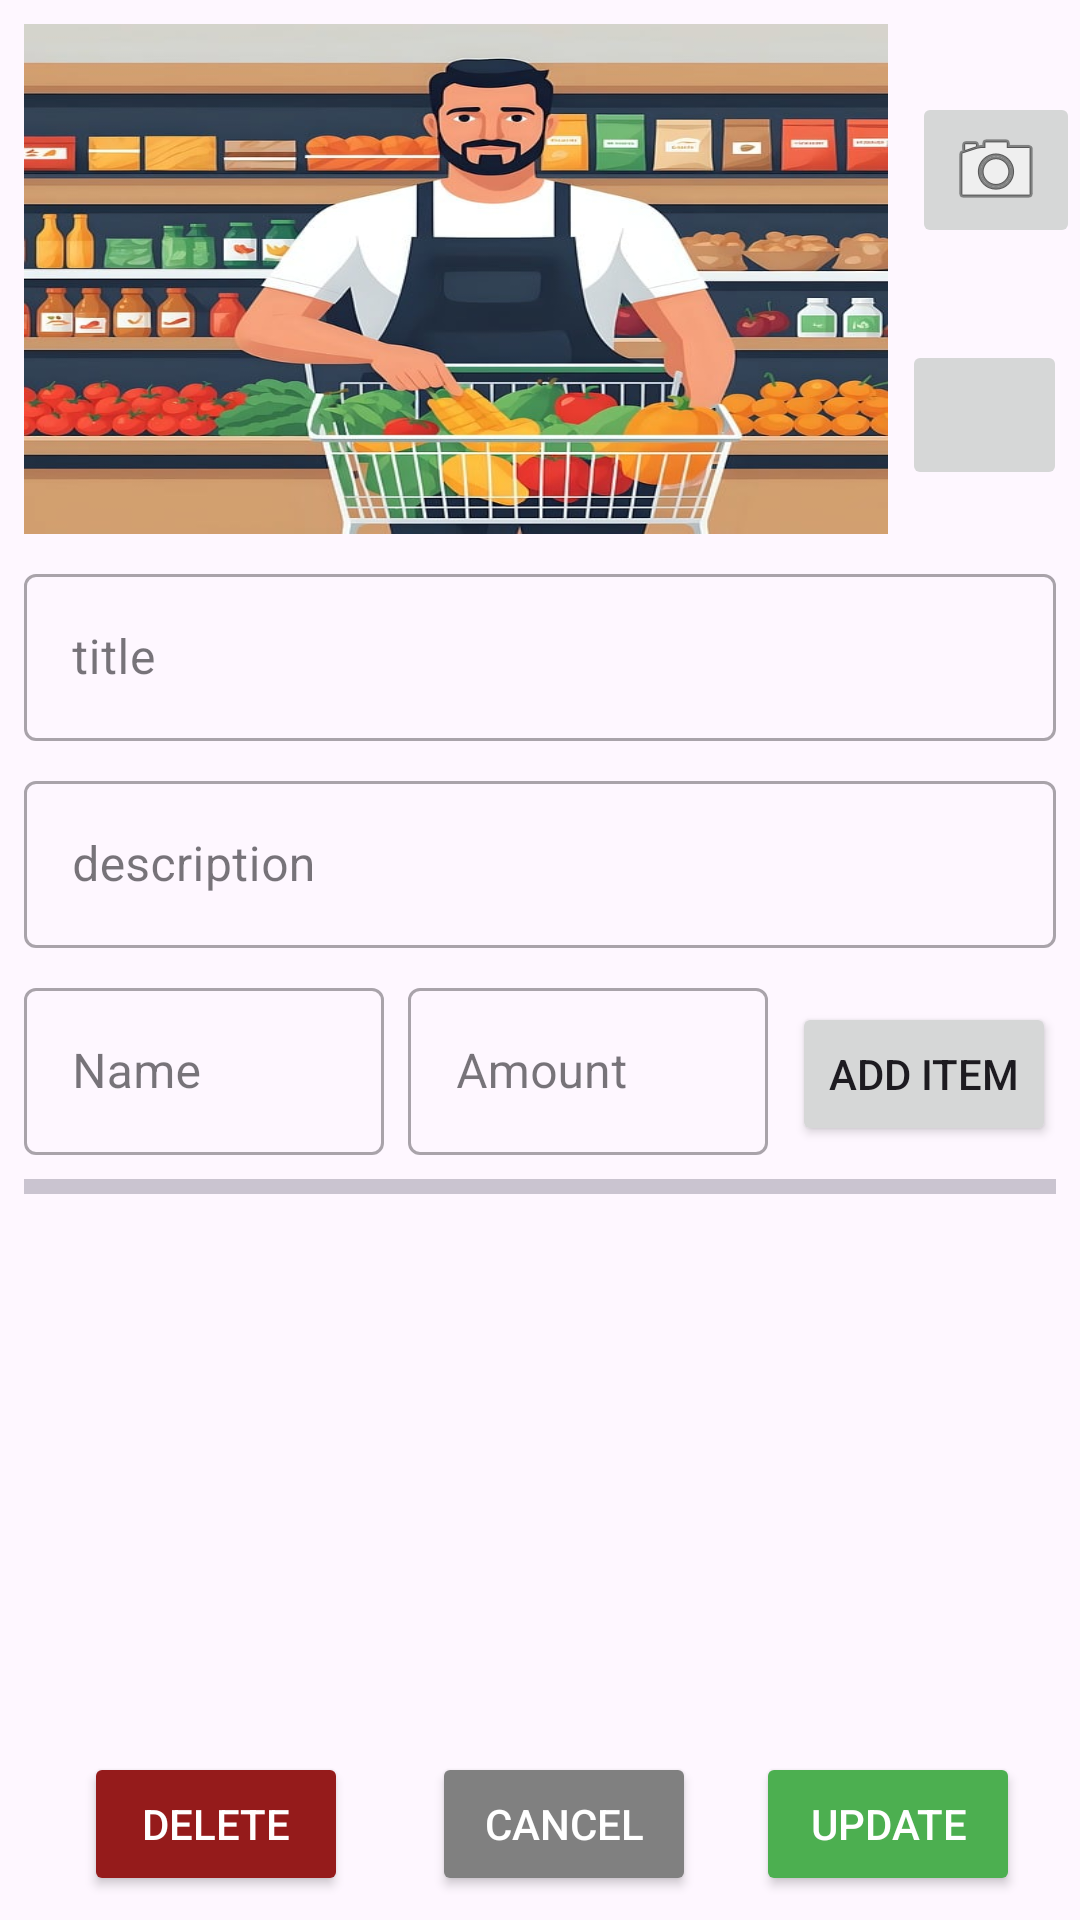

Icons on this 1080px x 1920px Android screen, each with its box as (x1, y1, x2, y2):
Take photo: (924, 110, 1068, 230)
